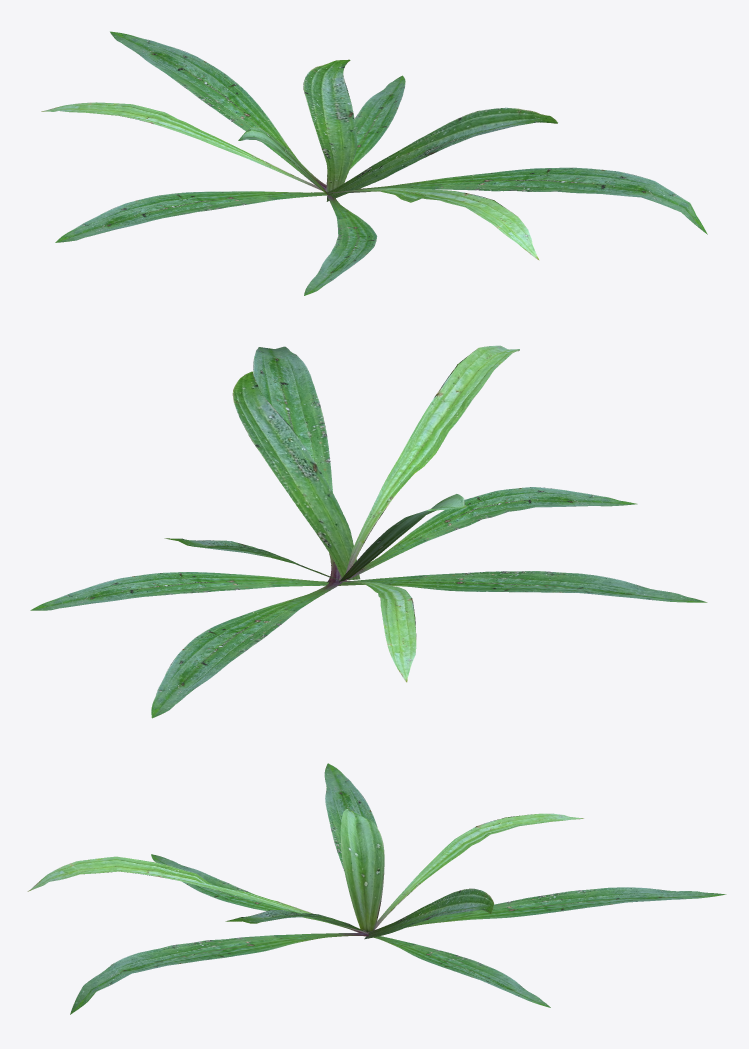
Rendered from breed gras.fbx.
3 views of the same model, one above another, from view 1: azimuth 30°, elevation 25°; view 2: azimuth 150°, elevation 25°; view 3: azimuth 270°, elevation 25° (orthographic). The views are drawn at different scales.
Parts seen in each view (by area): view 1: breed_gras; view 2: breed_gras; view 3: breed_gras.
Part boxes in pixels (x1,y1,x2,y2): breed_gras: [41, 31, 707, 295]; breed_gras: [30, 345, 707, 718]; breed_gras: [27, 763, 726, 1014].
Bounding box in the file's own units: 440 × 77.97 × 517.
